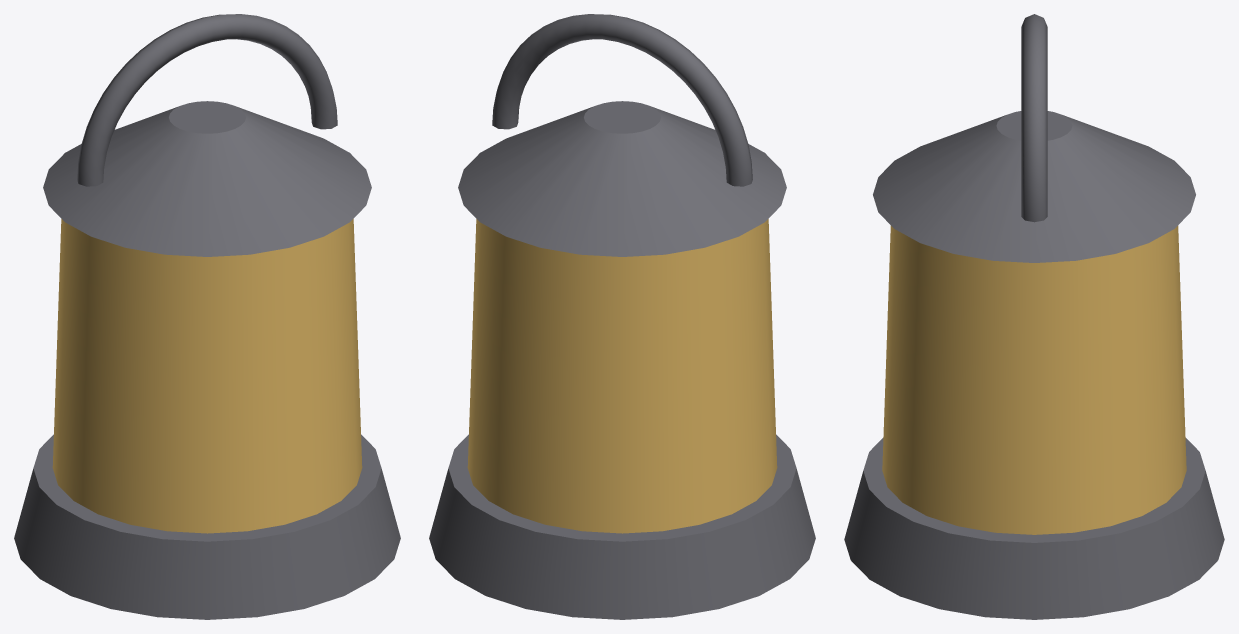
The model's file is lantern.glb.
3 views of the same model, side by side, from view 1: azimuth 30°, elevation 25°; view 2: azimuth 150°, elevation 25°; view 3: azimuth 270°, elevation 25° (orthographic).
Parts seen in each view (by area): view 1: lantern; view 2: lantern; view 3: lantern.
Part boxes in pixels (bbox=[...]): lantern: bbox=[14, 14, 400, 619]; lantern: bbox=[429, 14, 815, 619]; lantern: bbox=[844, 14, 1224, 619].
Size of the model in its own units: 0.2 by 0.297 by 0.2.
